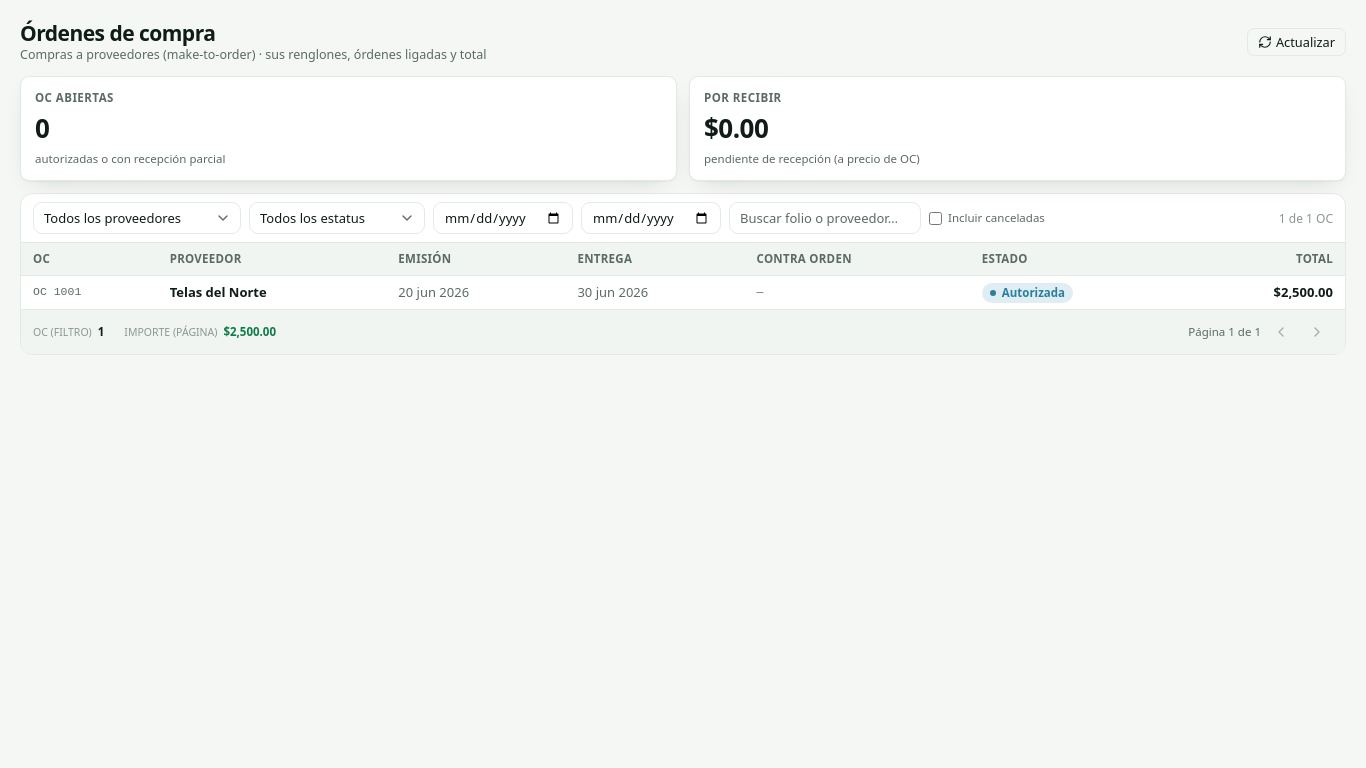
OrdenesCompraPagina (F4-E2) › §Post-F9.15 — dar entrada a la tela desde la OC › con renglones de TEXTO LIBRE explica que no son telas del catálogo (§Post-F9.16)
Click the row with test id "fila-oc": (218, 292) [21,275,1345,309]
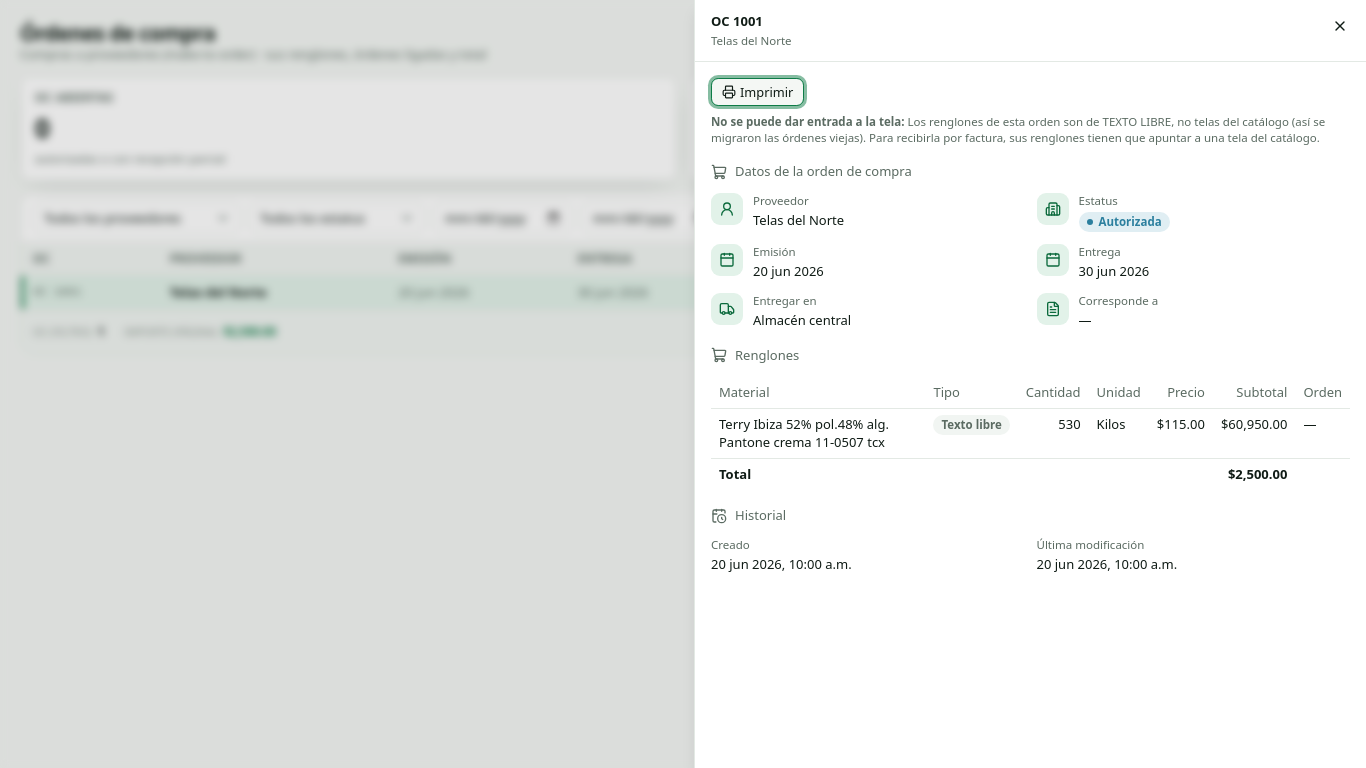
Now the element with test id "oc-sin-entrada-tela" shows "TEXTO LIBRE", box [711,114,1325,145]
